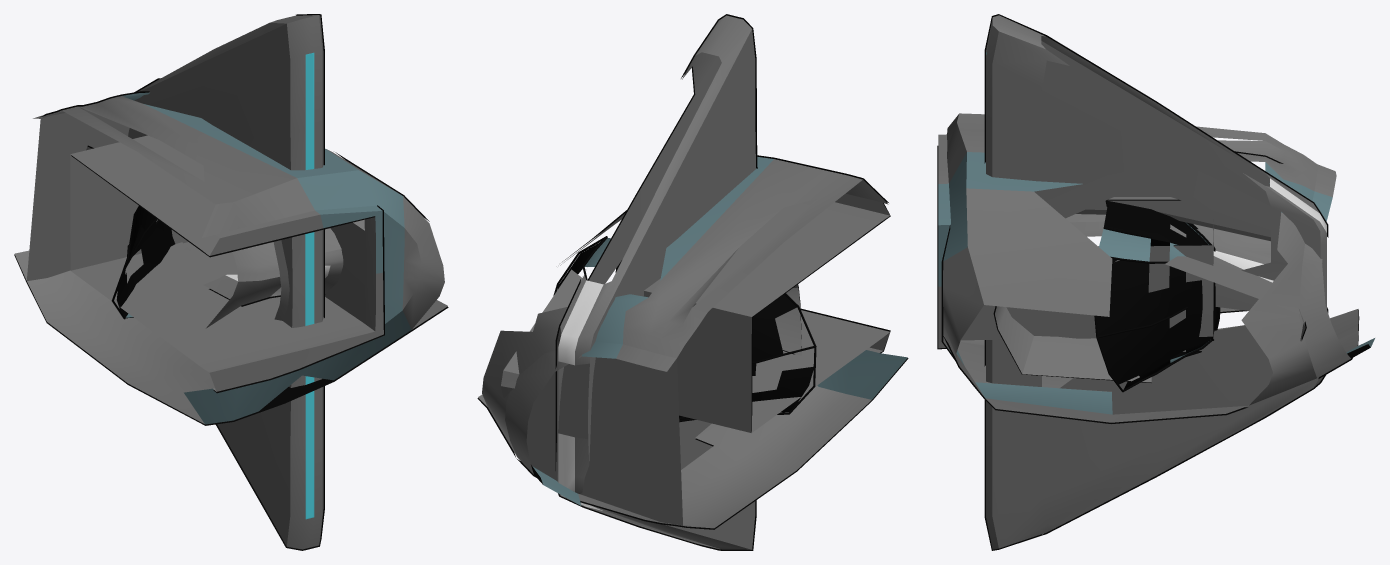
File: Dead Shattered MidShip.fbx
The picture shows the model from 3 angles, left to right: view 1: azimuth 30°, elevation 25°; view 2: azimuth 150°, elevation 25°; view 3: azimuth 270°, elevation 25°; orthographic projection.
Parts seen in each view (by area): view 1: Cube.001, Cube.004, Cube.006, Cube.002; view 2: Cube.001, Cube.004, Cube.002, Cube.006; view 3: Cube.004, Cube.001, Cube.002, Cube.006.
Boxes of the visible parts, x1,y1,x2,y2 form: Cube.001: [14, 91, 448, 425]; Cube.004: [128, 14, 324, 550]; Cube.006: [86, 145, 364, 328]; Cube.002: [111, 206, 175, 319]; Cube.001: [477, 155, 908, 529]; Cube.004: [555, 14, 757, 550]; Cube.002: [553, 236, 816, 422]; Cube.006: [501, 269, 801, 397]; Cube.004: [984, 14, 1328, 550]; Cube.001: [937, 113, 1374, 423]; Cube.002: [1094, 200, 1220, 392]; Cube.006: [993, 214, 1306, 382].
Size of the model in its own units: 4.57 by 6 by 7.96.
